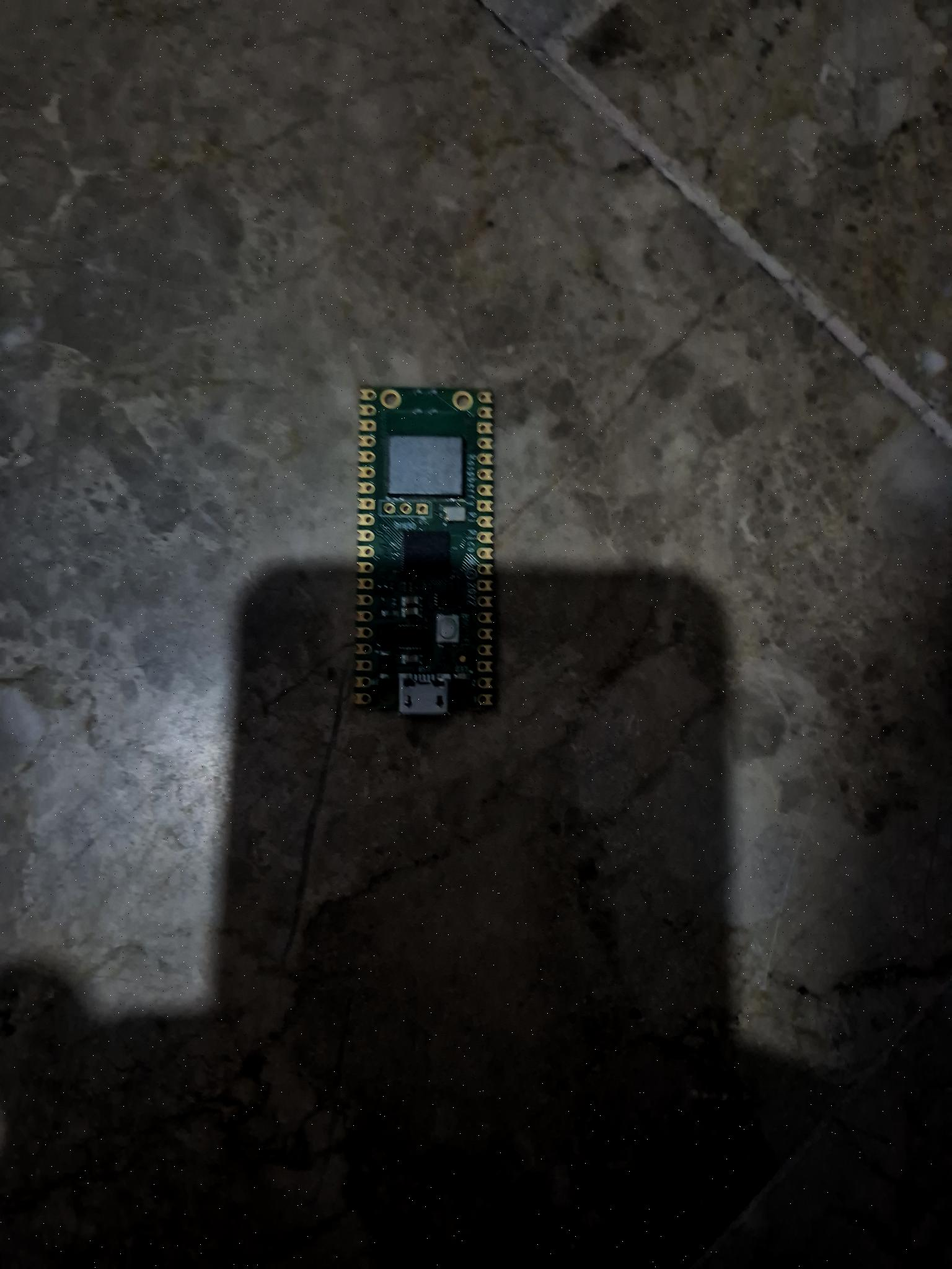raspberry-pi-pico-w: (353, 386, 498, 717)
